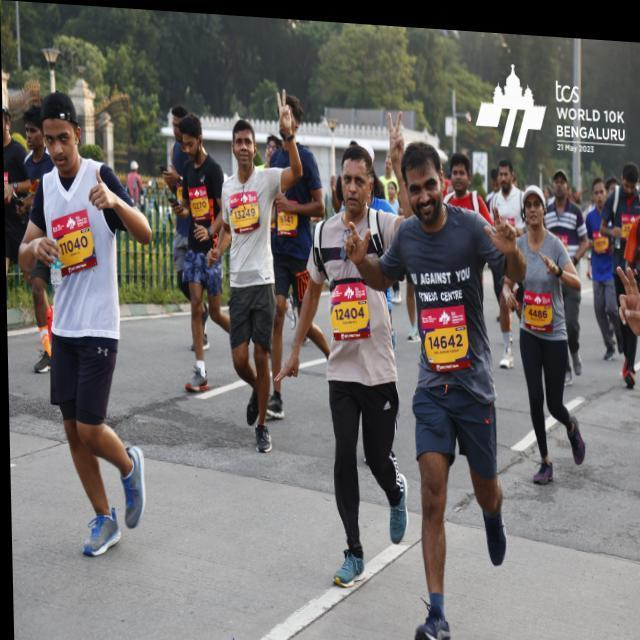dorsal: (48, 210, 100, 275), (418, 303, 466, 365), (326, 276, 369, 333), (225, 187, 262, 232), (522, 281, 553, 326)
